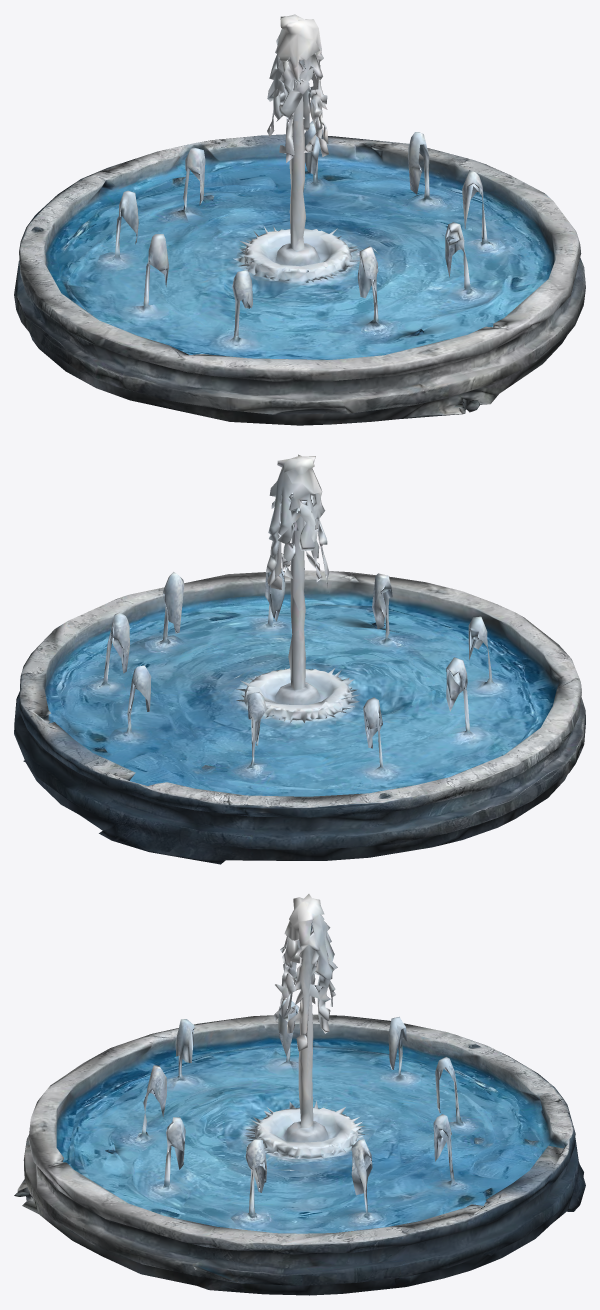
Rendered from mal_brunnen.glb.
The picture shows the model from 3 angles, top to bottom: view 1: azimuth 30°, elevation 25°; view 2: azimuth 150°, elevation 25°; view 3: azimuth 270°, elevation 25°; orthographic projection. The views are drawn at different scales.
Parts seen in each view (by area): view 1: tripo_node_123ddefe-1d4f-4e65-a61d-17c6fc8dc7d0; view 2: tripo_node_123ddefe-1d4f-4e65-a61d-17c6fc8dc7d0; view 3: tripo_node_123ddefe-1d4f-4e65-a61d-17c6fc8dc7d0.
Boxes of the visible parts, x1,y1,x2,y2 form: tripo_node_123ddefe-1d4f-4e65-a61d-17c6fc8dc7d0: [14, 14, 585, 425]; tripo_node_123ddefe-1d4f-4e65-a61d-17c6fc8dc7d0: [14, 454, 585, 864]; tripo_node_123ddefe-1d4f-4e65-a61d-17c6fc8dc7d0: [14, 894, 585, 1295].
Bounding box in the file's own units: 0.9736 × 0.5513 × 1.
1 material, 1 textured.
